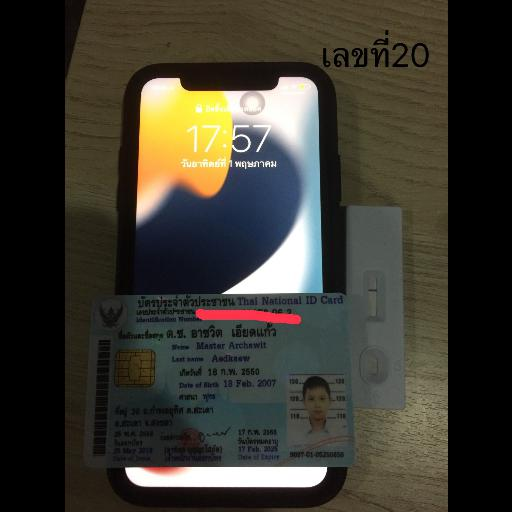Neg: (346, 205, 404, 405)
